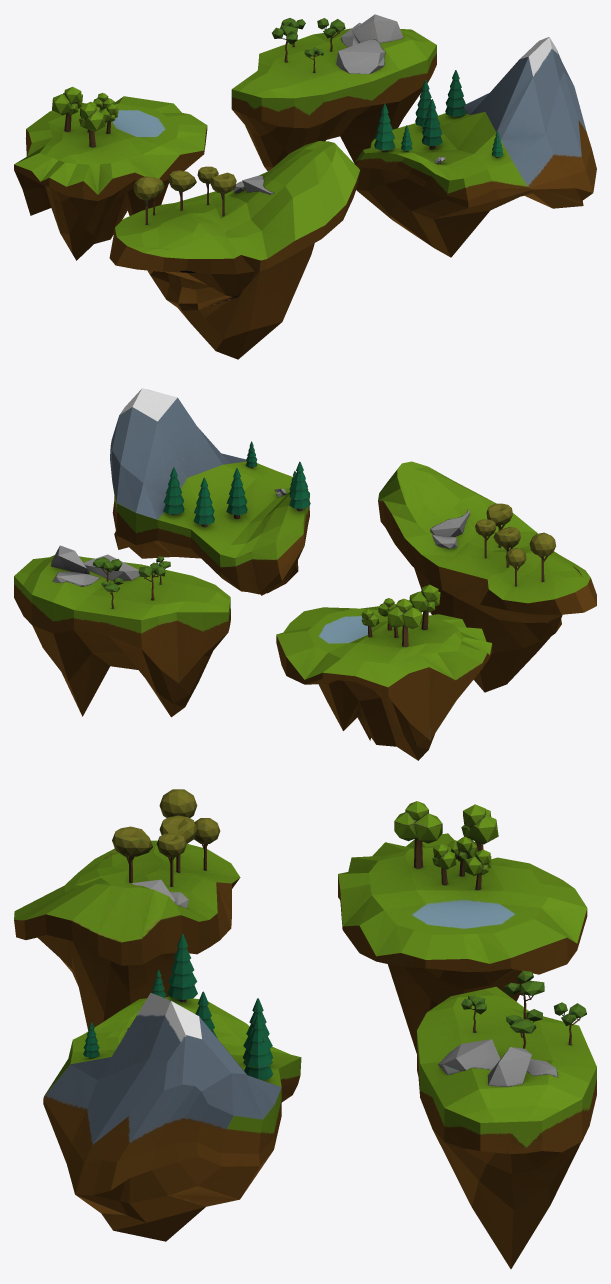
The model's file is isla_fbx.fbx.
The picture shows the model from 3 angles, top to bottom: view 1: azimuth 30°, elevation 25°; view 2: azimuth 150°, elevation 25°; view 3: azimuth 270°, elevation 25°; orthographic projection. The views are drawn at different scales.
Visible parts, largest first — view 1: Island1.001; view 2: Island1.001; view 3: Island1.001.
Part boxes in pixels (box(x1,y1,x2,y2)): Island1.001: box(14, 14, 596, 359); Island1.001: box(14, 388, 596, 760); Island1.001: box(14, 789, 596, 1268).
Size of the model in its own units: 776 by 369 by 597.
